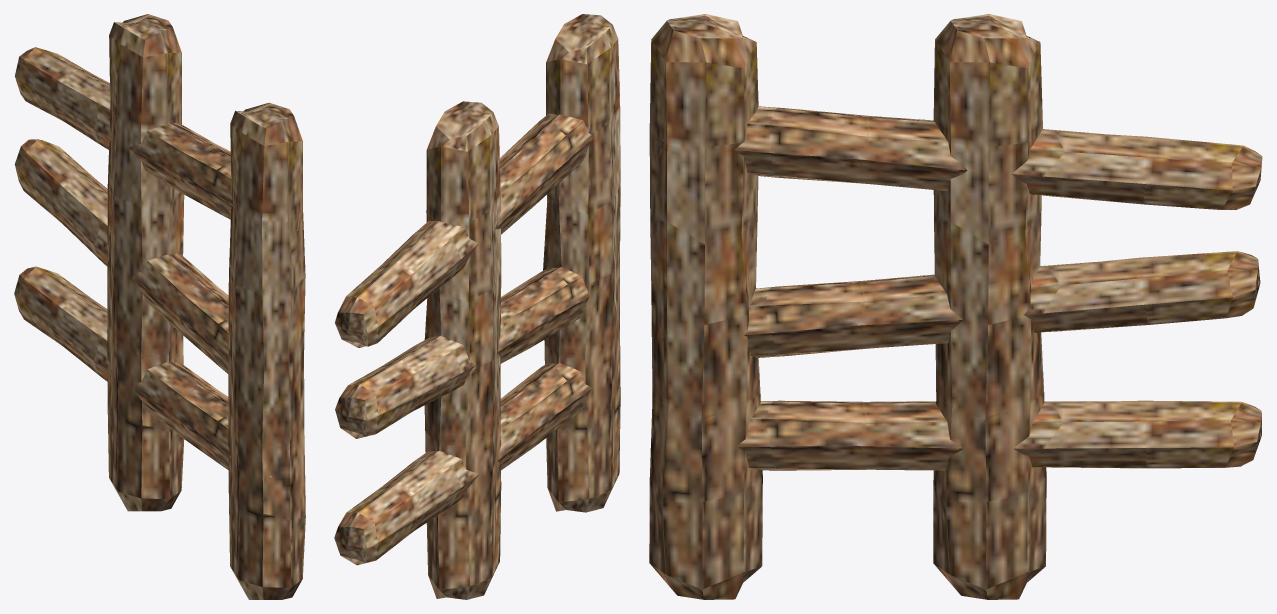
Rendered from cercaBasica.glb.
3 renders of one model, left to right at view 1: azimuth 30°, elevation 25°; view 2: azimuth 150°, elevation 25°; view 3: azimuth 270°, elevation 25°, orthographic. The views are drawn at different scales.
Parts seen in each view (by area): view 1: Cube.004; view 2: Cube.004; view 3: Cube.004.
Part boxes in pixels (left/top/right/bottom): Cube.004: left=14, top=14, right=305, bottom=599; Cube.004: left=334, top=14, right=620, bottom=599; Cube.004: left=649, top=14, right=1262, bottom=599.
Size of the model in its own units: 0.349 by 2.66 by 2.59.
Materials: 1 (1 with a texture image).
